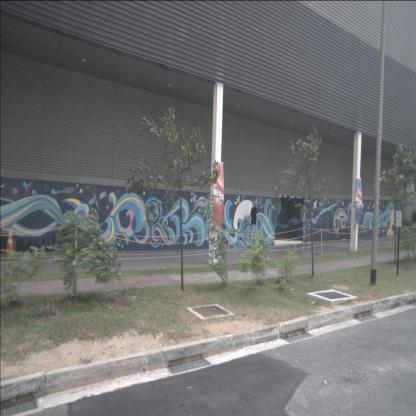cone: (5, 225, 15, 256)
